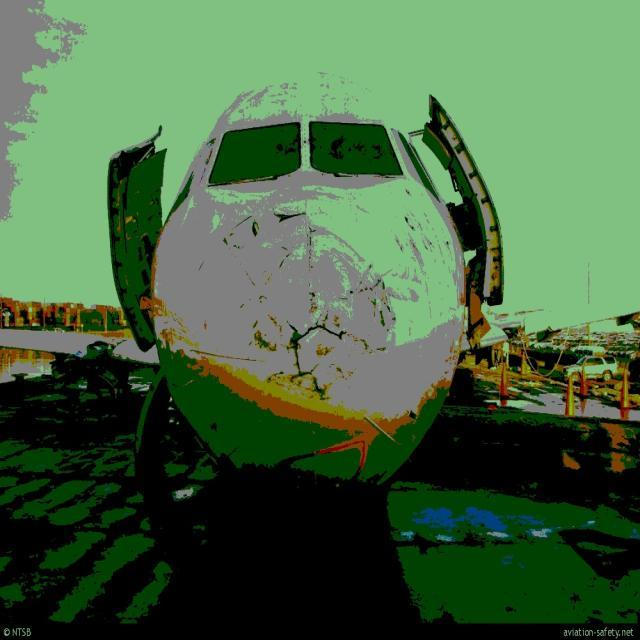crack: (198, 212, 396, 412)
